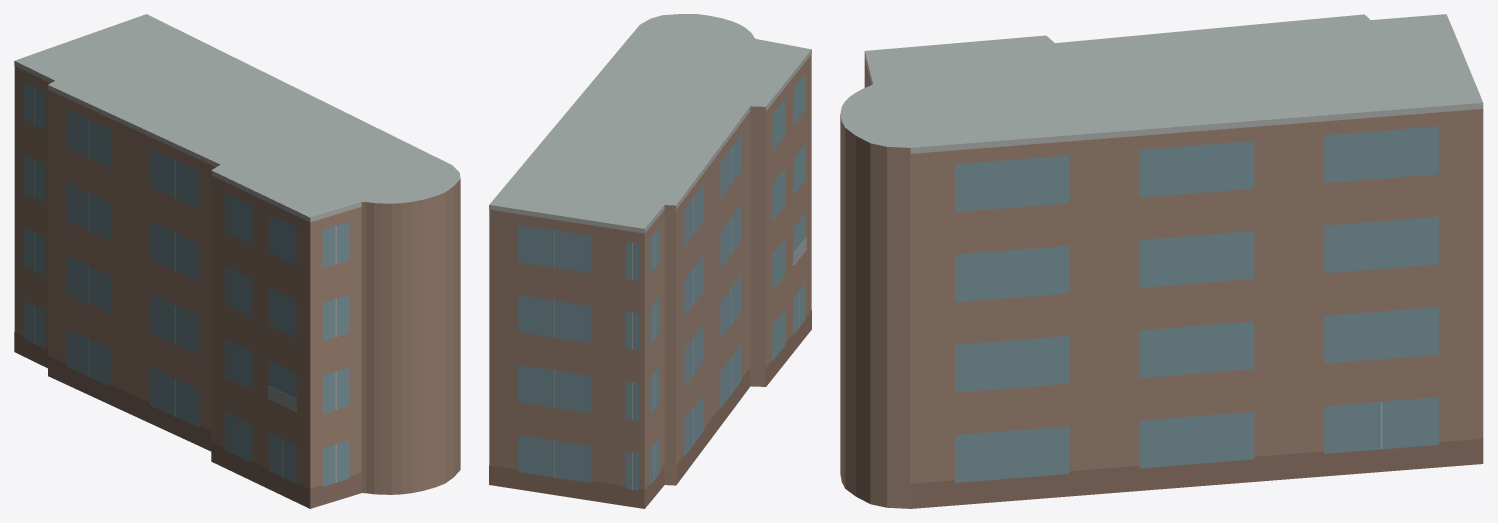
File: survey-upis-33016707.glb
The picture shows the model from 3 angles, left to right: view 1: azimuth 30°, elevation 25°; view 2: azimuth 150°, elevation 25°; view 3: azimuth 270°, elevation 25°; orthographic projection. The views are drawn at different scales.
Parts seen in each view (by area): view 1: survey-upis-33016707.tmp; view 2: survey-upis-33016707.tmp; view 3: survey-upis-33016707.tmp.
Part boxes in pixels (x1=…): survey-upis-33016707.tmp: x1=14, y1=14, x2=460, y2=508; survey-upis-33016707.tmp: x1=489, y1=14, x2=811, y2=508; survey-upis-33016707.tmp: x1=840, y1=14, x2=1483, y2=508.
Size of the model in its own units: 11.77 by 14.78 by 23.87.
